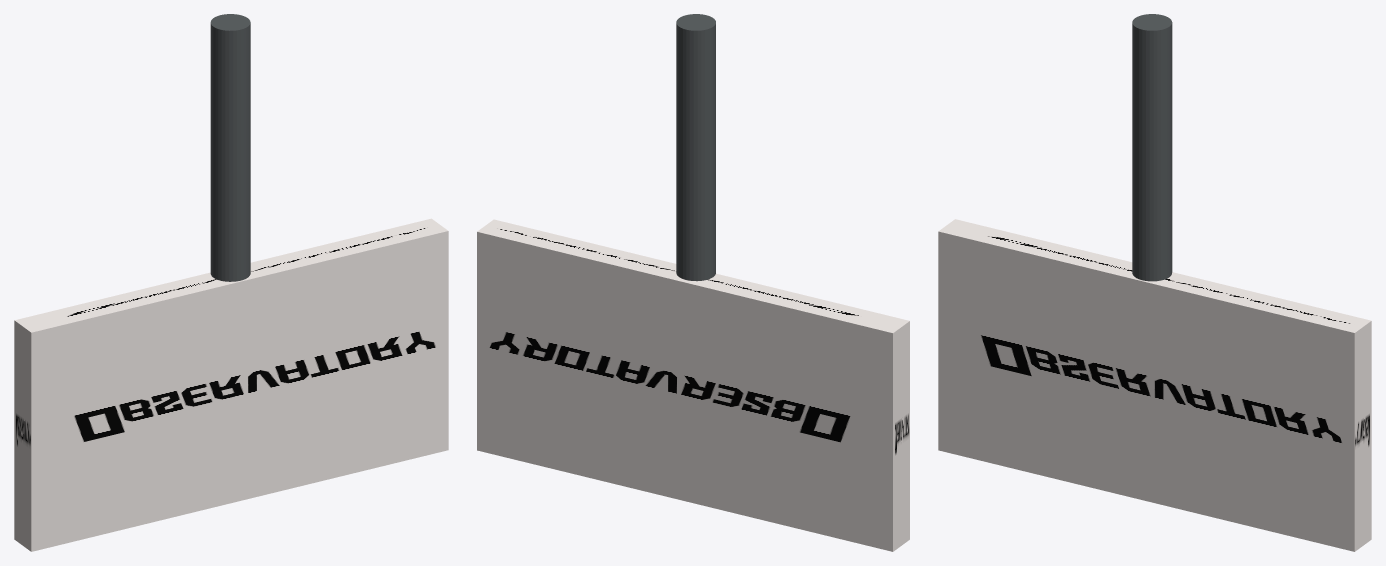
The model's file is observatory.glb.
3 views of the same model, side by side, from view 1: azimuth 30°, elevation 25°; view 2: azimuth 150°, elevation 25°; view 3: azimuth 330°, elevation 25° (orthographic).
Parts seen in each view (by area): view 1: Cube, Cylinder; view 2: Cube, Cylinder; view 3: Cube, Cylinder.
Boxes of the visible parts, <box> form: Cube: <box>14,218,448,551</box>; Cylinder: <box>210,14,250,281</box>; Cube: <box>477,219,909,551</box>; Cylinder: <box>676,14,715,281</box>; Cube: <box>938,219,1371,551</box>; Cylinder: <box>1132,14,1172,281</box>.
Bounding box in the file's own units: 3.98 × 4.32 × 0.3302.
Materials: 2 (2 with a texture image).
